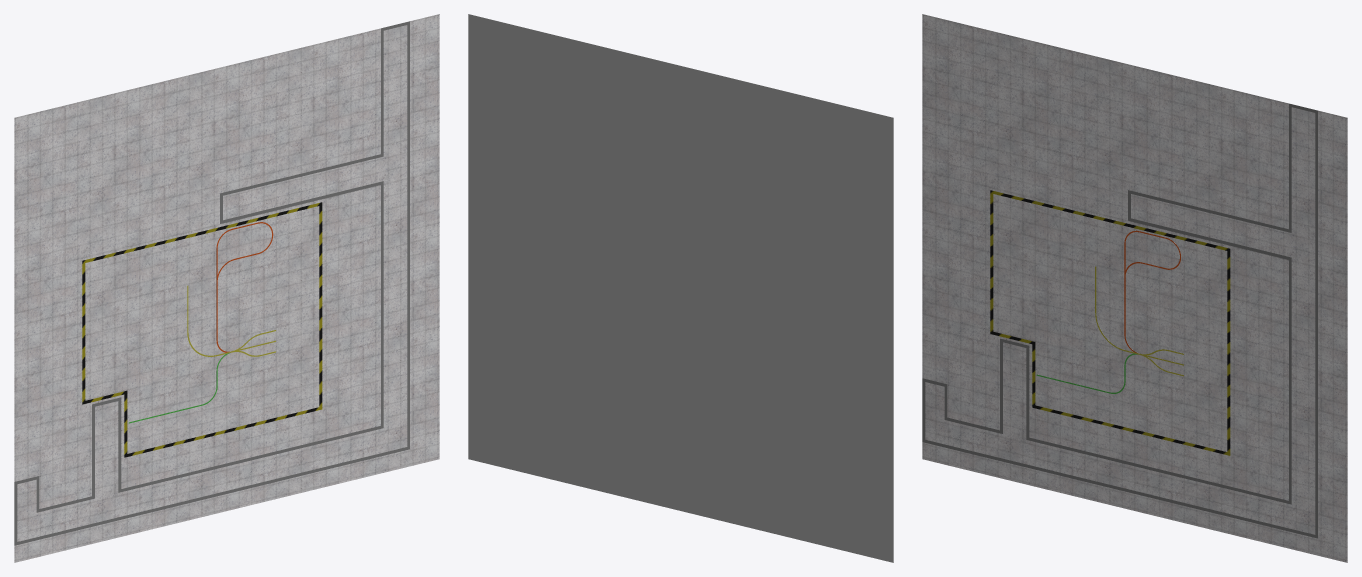
The model's file is floor.glb.
3 renders of one model, left to right at view 1: azimuth 30°, elevation 25°; view 2: azimuth 150°, elevation 25°; view 3: azimuth 330°, elevation 25°, orthographic.
Visible parts, largest first — view 1: correct_floor.SLDPRT; view 2: correct_floor.SLDPRT; view 3: correct_floor.SLDPRT.
Boxes of the visible parts, bbox=[...] form: correct_floor.SLDPRT: bbox=[14, 14, 439, 562]; correct_floor.SLDPRT: bbox=[468, 14, 893, 562]; correct_floor.SLDPRT: bbox=[922, 14, 1347, 562].
Bounding box in the file's own units: 14.54 × 14.54 × 0.004.
Materials: 7 (4 with a texture image).
